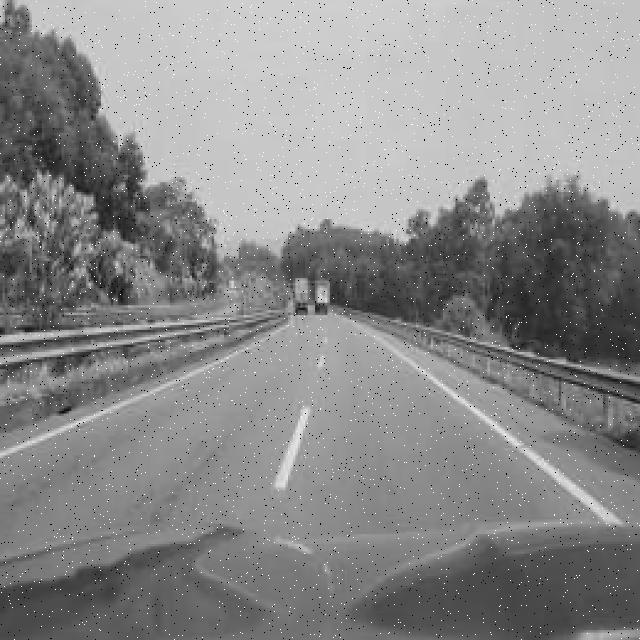clear-road: (0, 314, 640, 560)
